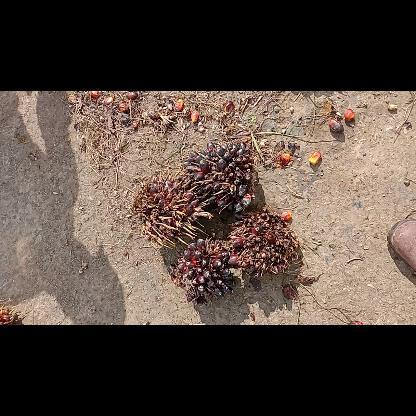TBS abnormal: (132, 173, 210, 247), (183, 141, 256, 212), (227, 209, 299, 280), (166, 238, 234, 304)
